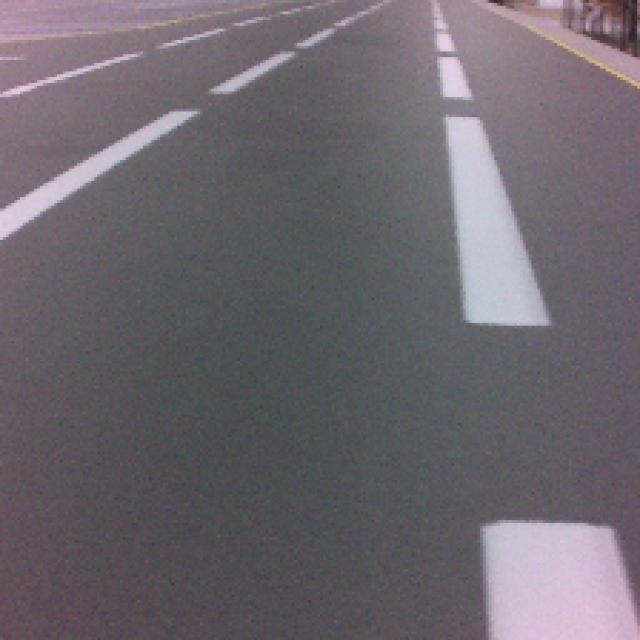Road: (0, 331, 483, 640)
